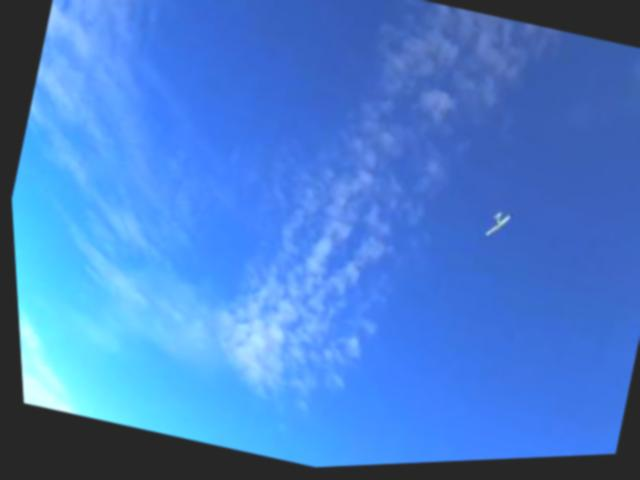uav: (475, 203, 518, 255)
